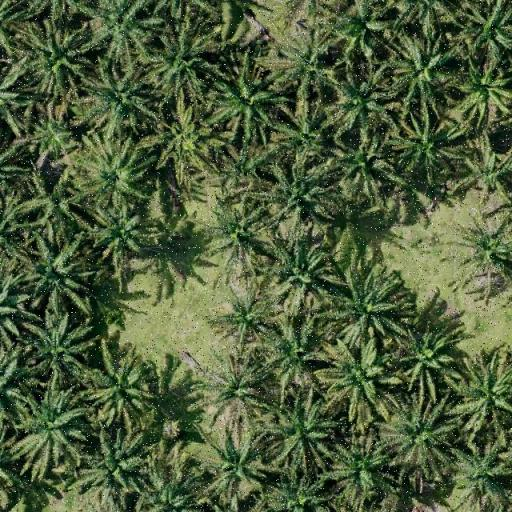Ganoderma: (465, 227, 509, 269)
